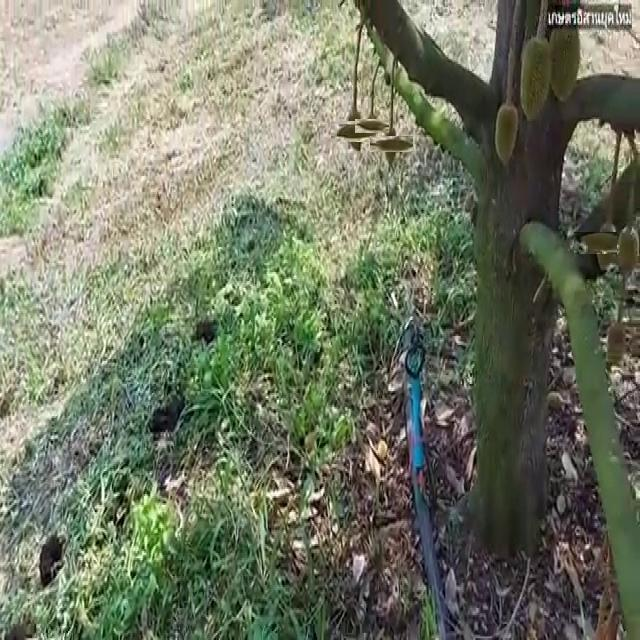durian: (544, 10, 583, 108), (519, 30, 553, 124), (585, 221, 629, 265), (493, 97, 519, 168), (604, 314, 628, 374), (617, 220, 639, 284), (338, 114, 373, 149), (376, 128, 407, 158), (360, 114, 384, 139)
